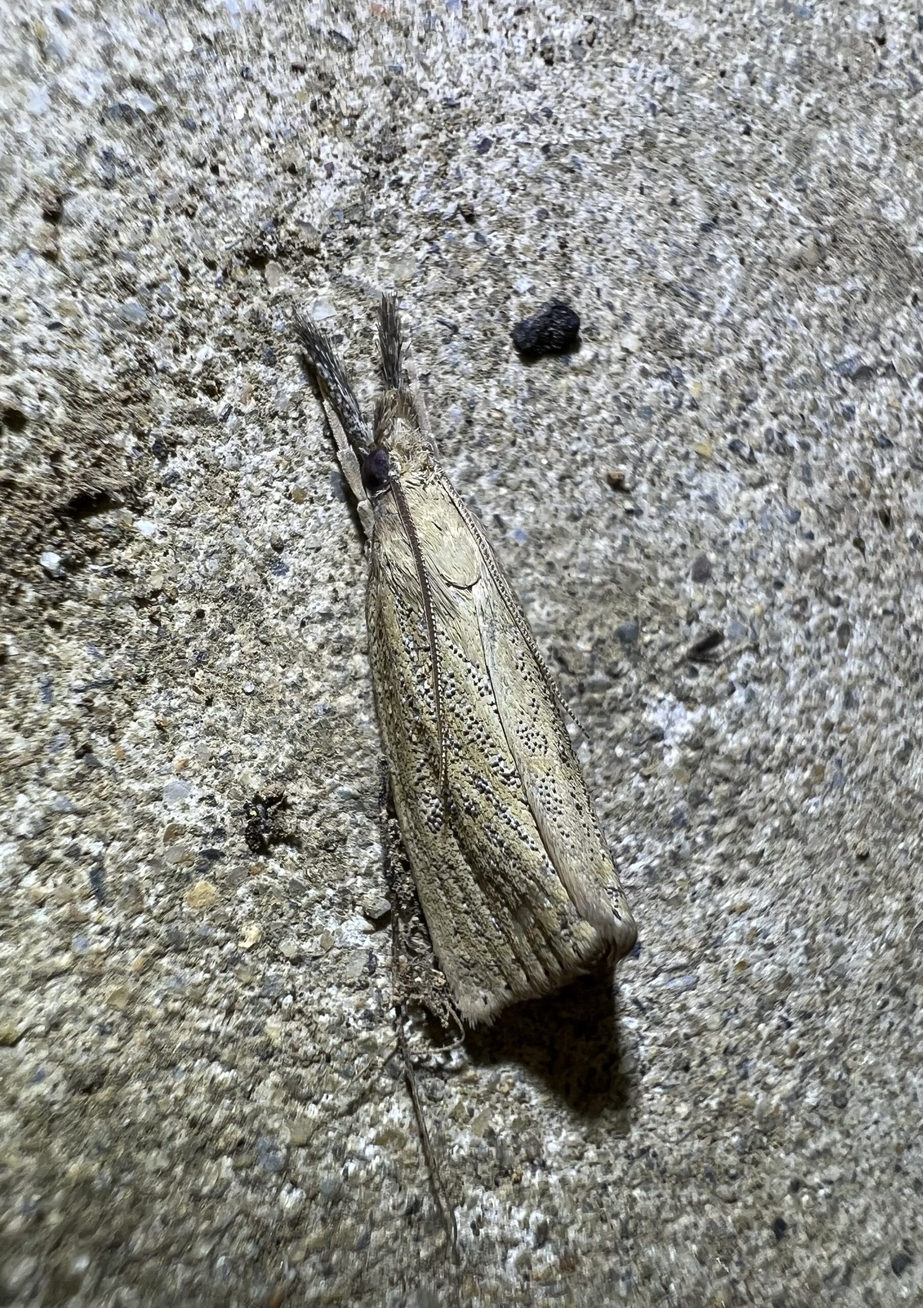Crambidae: (306, 285, 608, 1030)
